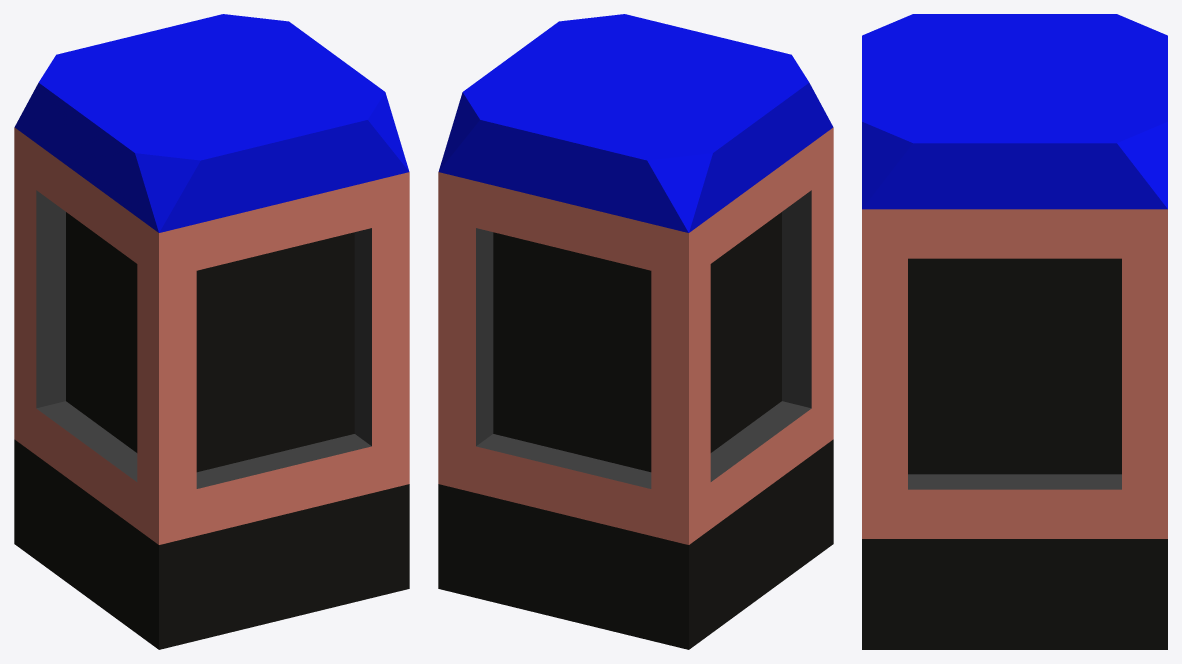
File: splitter.glb
3 renders of one model, left to right at view 1: azimuth 30°, elevation 25°; view 2: azimuth 150°, elevation 25°; view 3: azimuth 270°, elevation 25°, orthographic. The views are drawn at different scales.
Visible parts, largest first — view 1: Cube; view 2: Cube; view 3: Cube.
Boxes of the visible parts, x1=… form: Cube: x1=14, y1=14, x2=409, y2=649; Cube: x1=438, y1=14, x2=833, y2=649; Cube: x1=862, y1=14, x2=1167, y2=649.
Size of the model in its own units: 4.2 by 7.68 by 4.2.
